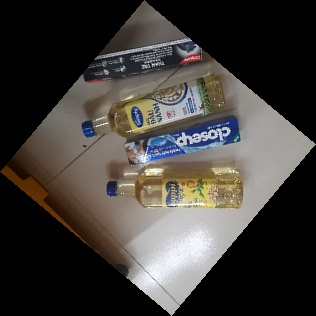CloseUp Tuyet: (122, 115, 241, 166)
Colgate Than: (81, 36, 205, 81)
Happy Soya: (105, 166, 246, 212)
Simply: (80, 74, 225, 141)
